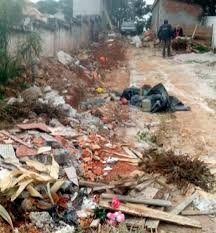rubble: (1, 92, 128, 233)
